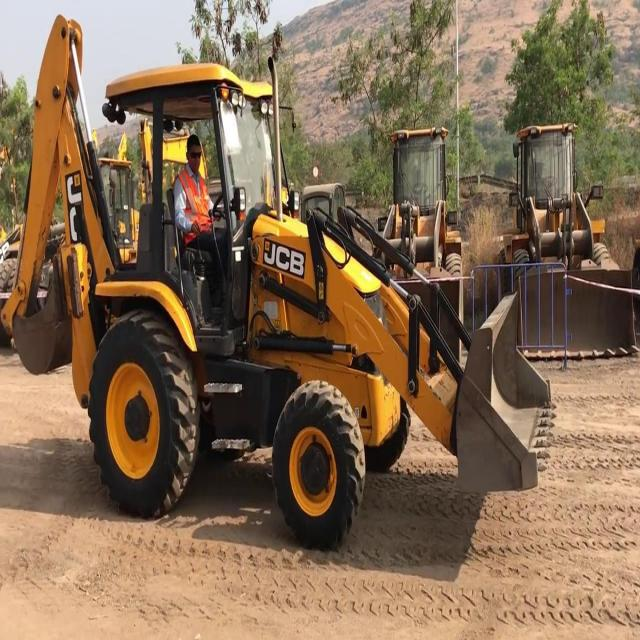Loader: (494, 117, 640, 361), (370, 130, 470, 322)
